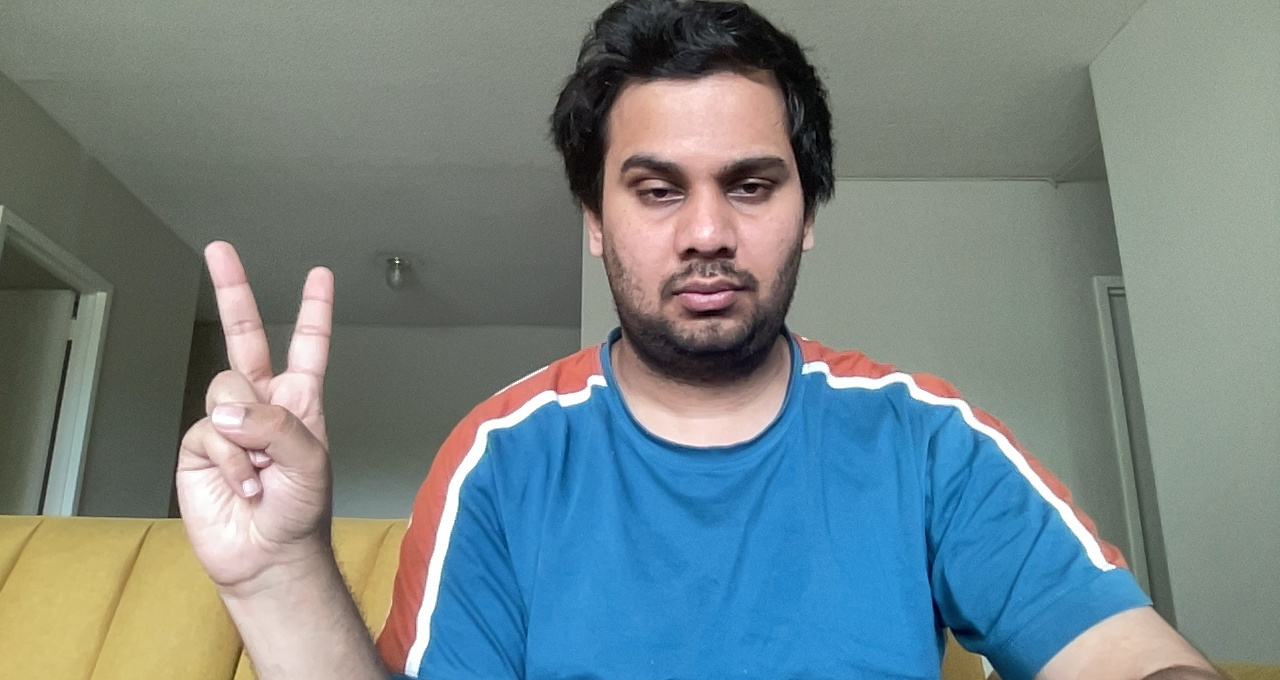peace sign: (164, 236, 341, 587)
